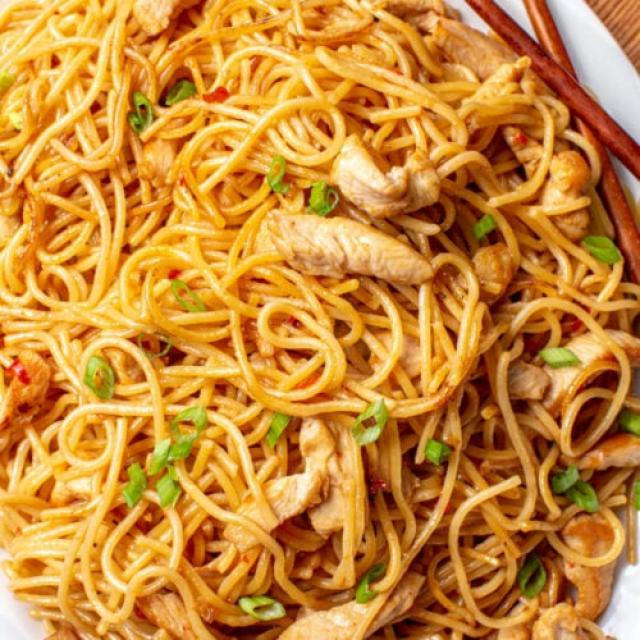noodle: (1, 0, 640, 640)
